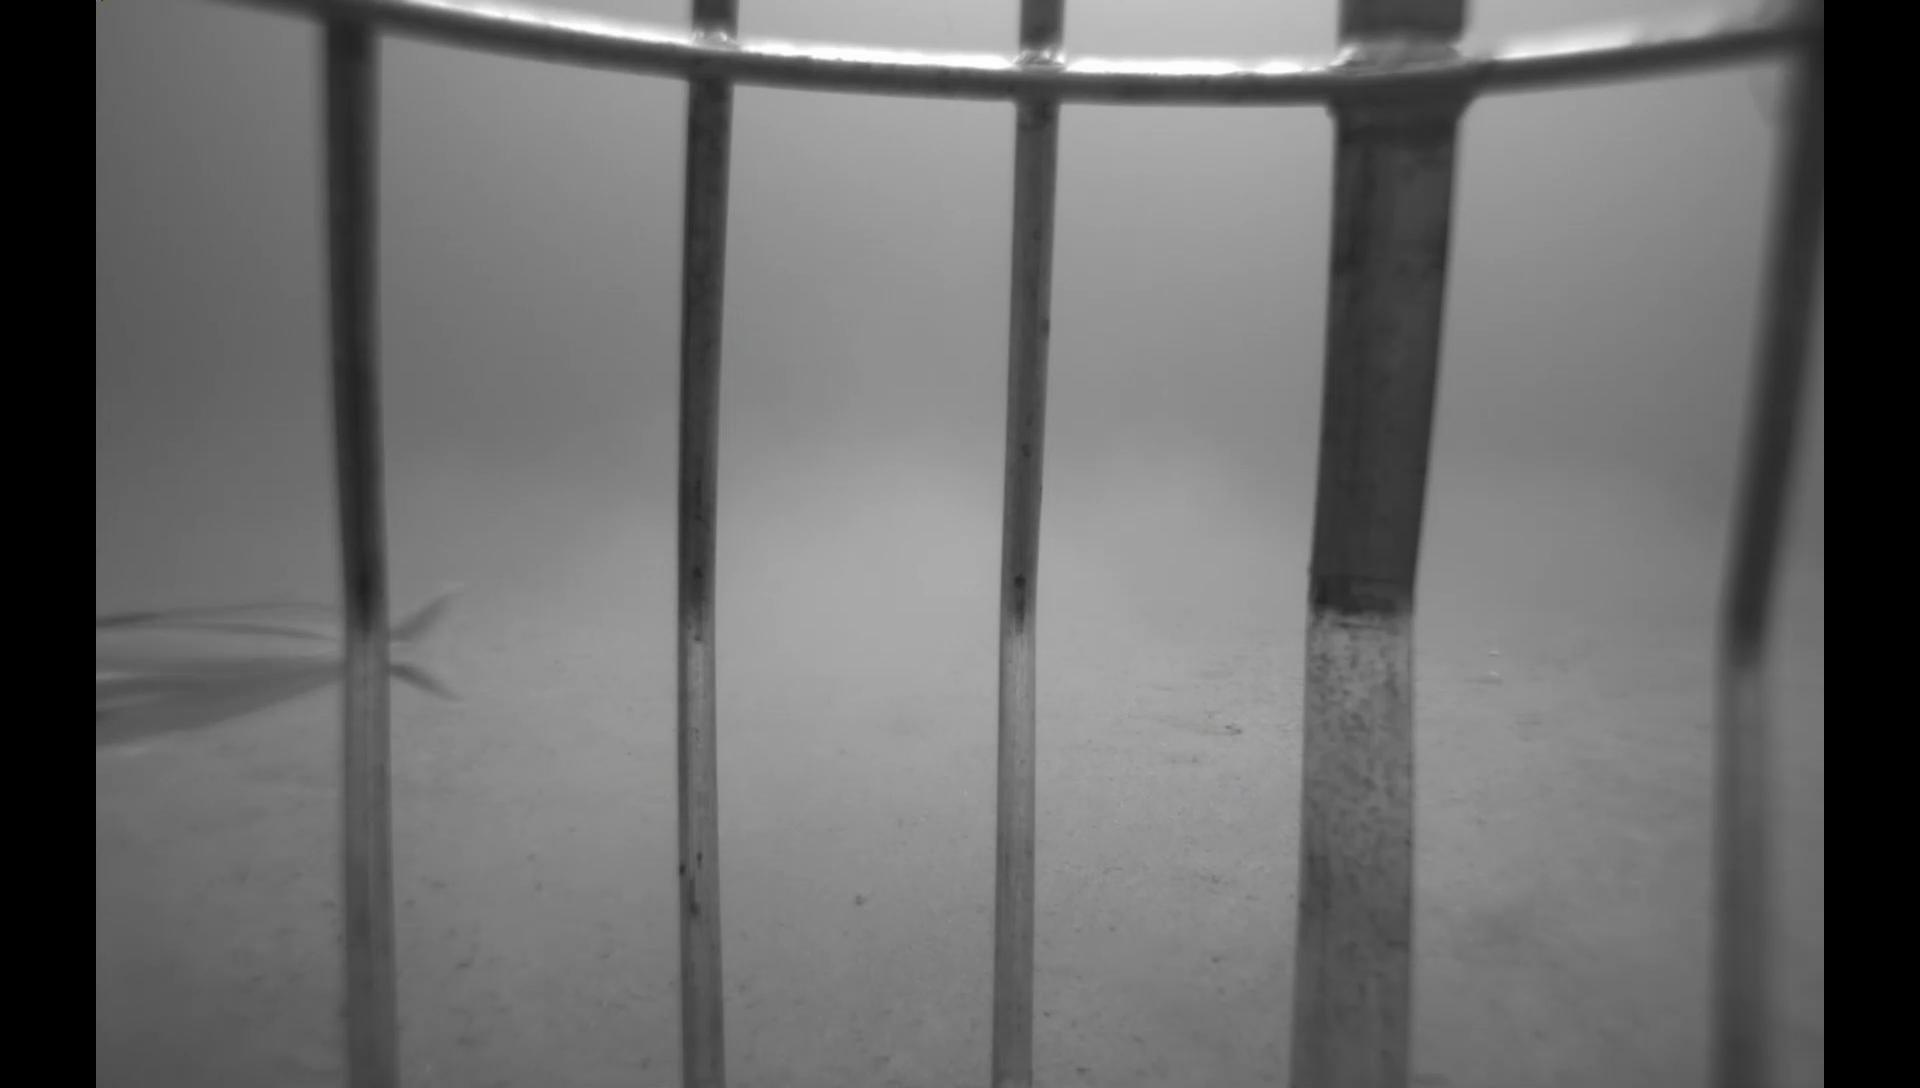CAULOLATILUSCYANOPS-170070101: (94, 578, 480, 749)
SYACIUM-183011000: (1143, 699, 1249, 742)
